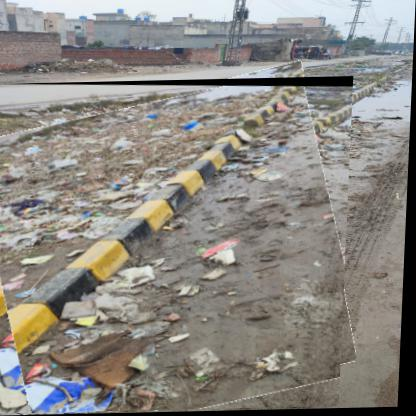Garbage: (1, 79, 356, 416)
